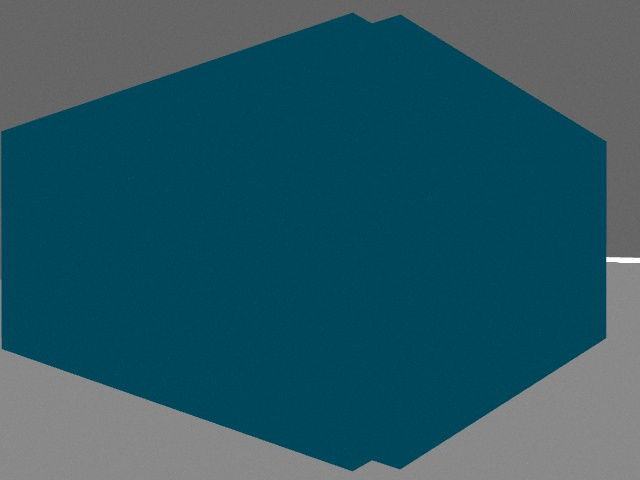blue_drop_zone: (0, 13, 607, 471)
